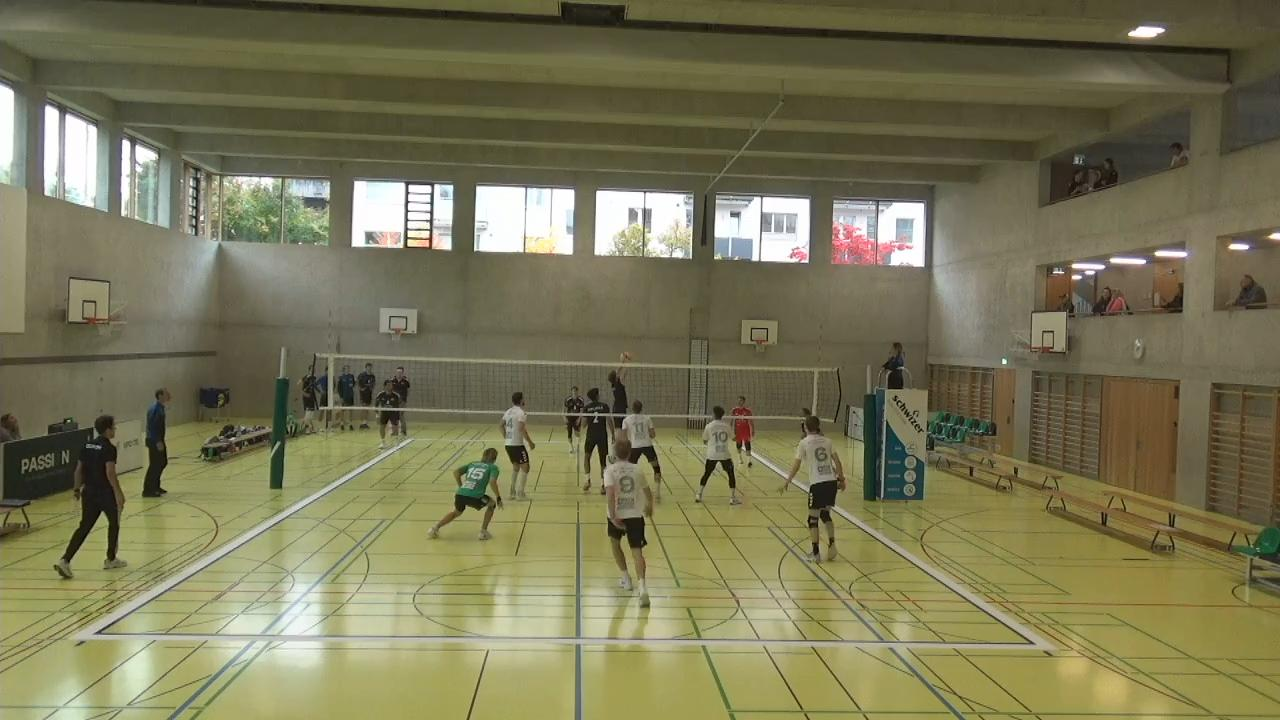alzata: (605, 357, 634, 426)
